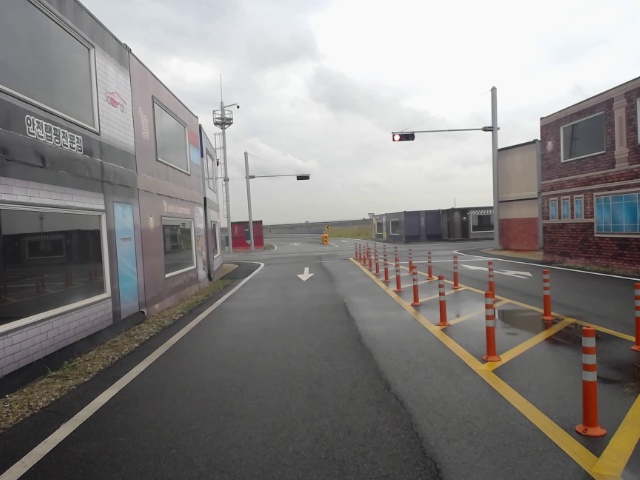red_3: (391, 131, 416, 143)
